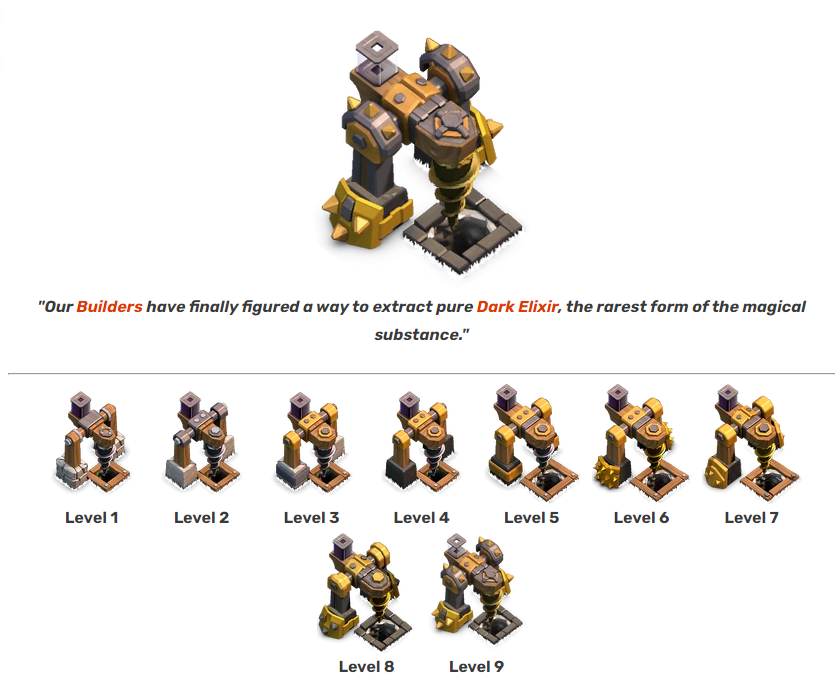dark_elixir_colector: (325, 42, 520, 268), (299, 536, 419, 647), (480, 382, 582, 506), (704, 377, 805, 500), (596, 380, 687, 505), (428, 526, 523, 644), (157, 382, 250, 496), (269, 384, 359, 492), (44, 388, 126, 499), (383, 389, 463, 498)
